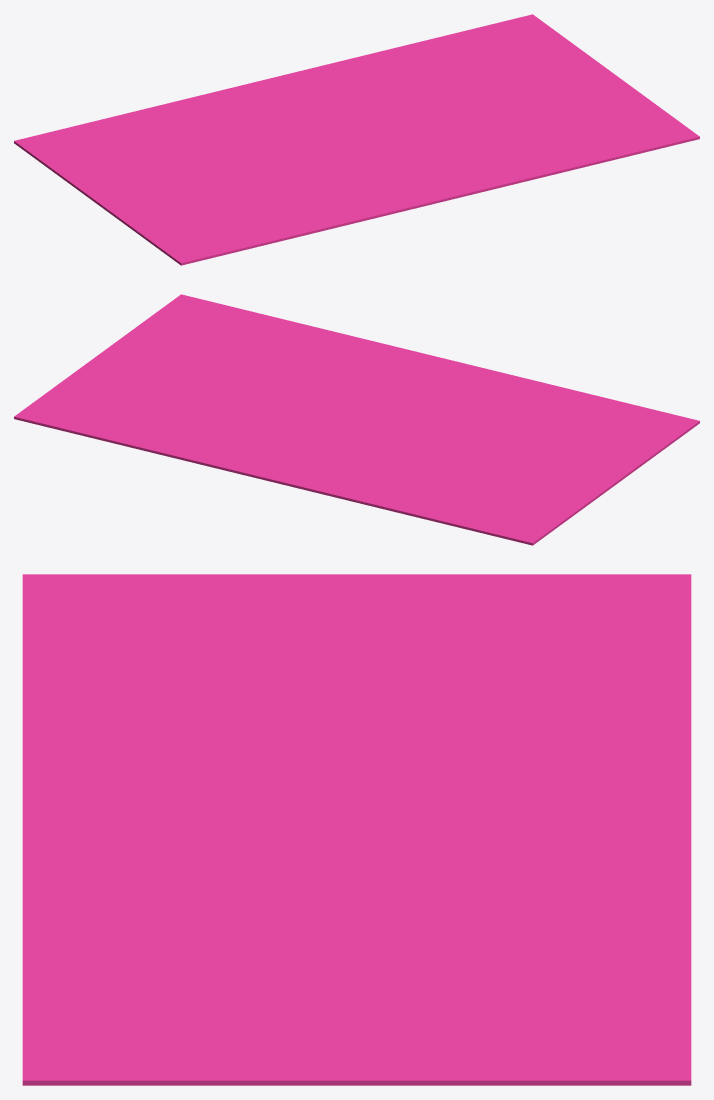
The picture shows the model from 3 angles, top to bottom: view 1: azimuth 30°, elevation 25°; view 2: azimuth 150°, elevation 25°; view 3: azimuth 270°, elevation 25°; orthographic projection. The views are drawn at different scales.
Visible parts, largest first — view 1: R_Wing_Geo, R_Wing_Geo1; view 2: R_Wing_Geo, R_Wing_Geo1; view 3: R_Wing_Geo1, R_Wing_Geo.
Boxes of the visible parts, x1,y1,x2,y2 form: R_Wing_Geo: (14,77,440,265); R_Wing_Geo1: (274,14,699,201); R_Wing_Geo: (273,357,699,545); R_Wing_Geo1: (14,294,439,481); R_Wing_Geo1: (22,827,691,1085); R_Wing_Geo: (22,574,691,827).
Bounding box in the file's own units: 2 × 0.00878 × 1.12.
